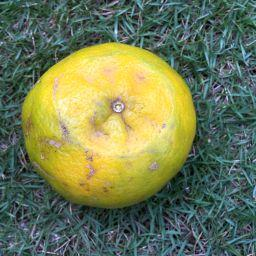Unripe: (23, 43, 194, 201)
